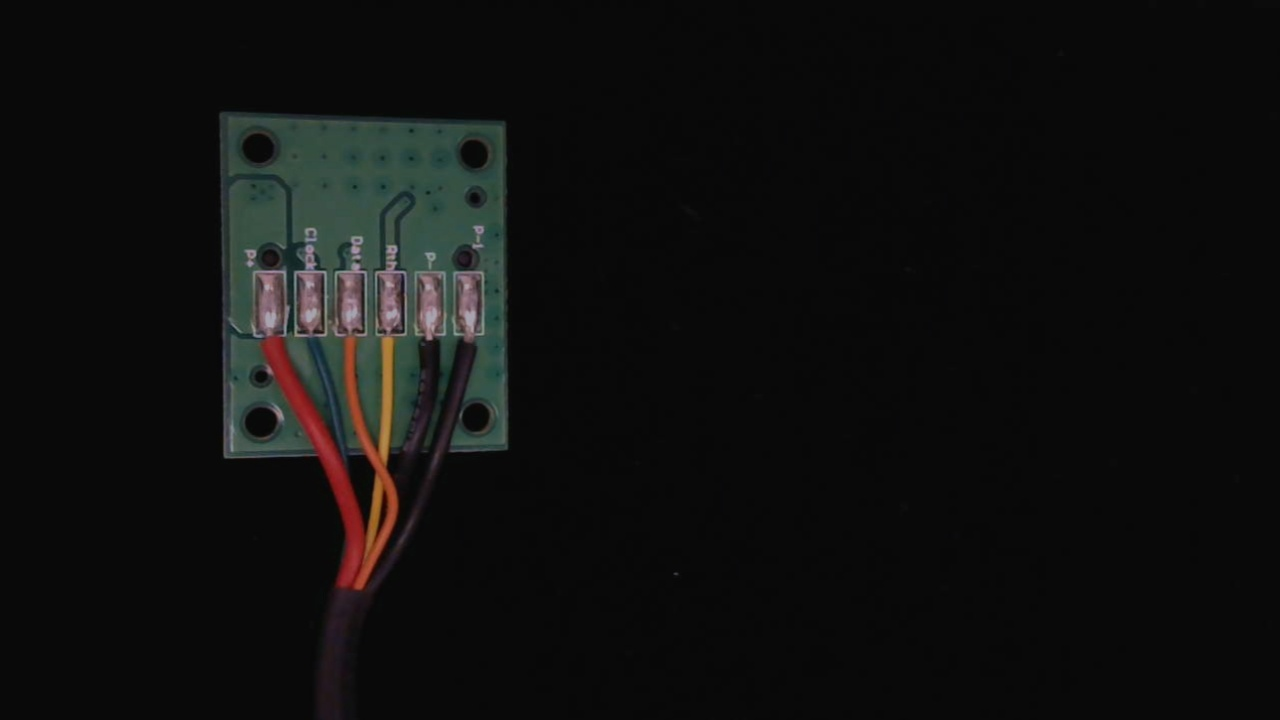Black: (412, 315, 446, 388)
Black1: (454, 317, 488, 384)
Green: (292, 314, 326, 384)
Orange: (336, 314, 369, 386)
Red: (253, 312, 287, 382)
Yellow: (373, 314, 407, 388)
